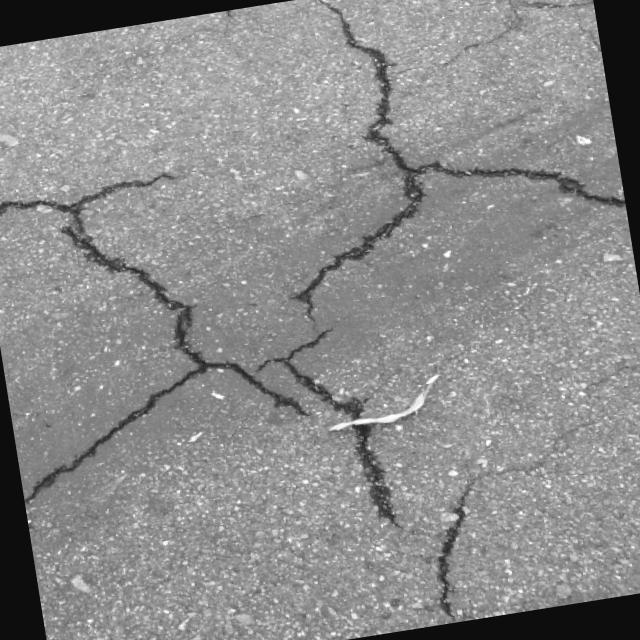crack: (302, 0, 624, 270), (0, 167, 230, 506), (404, 363, 640, 621), (204, 270, 366, 440), (339, 424, 403, 536)
